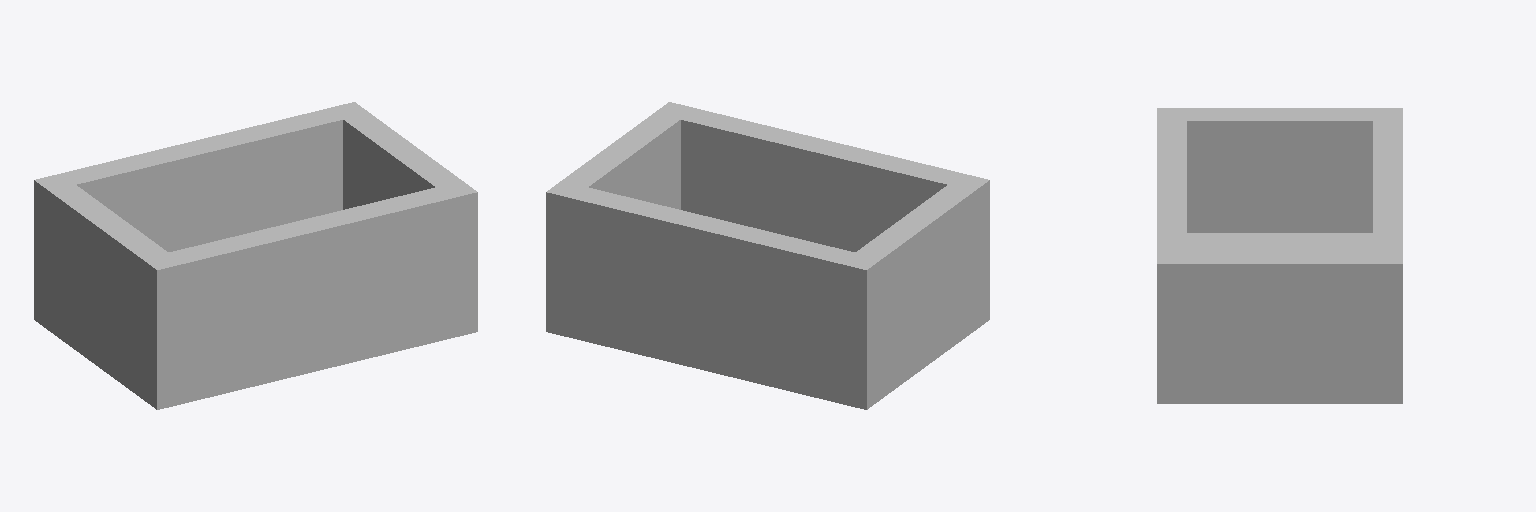
File: Room.obj
The picture shows the model from 3 angles: view 1: azimuth 30°, elevation 25°; view 2: azimuth 150°, elevation 25°; view 3: azimuth 270°, elevation 25°; orthographic projection.
Parts seen in each view (by area): view 1: Cube; view 2: Cube; view 3: Cube.
Part boxes in pixels (left/top/right/bottom): Cube: left=34, top=102, right=477, bottom=409; Cube: left=546, top=102, right=989, bottom=409; Cube: left=1157, top=108, right=1402, bottom=403.
Bounding box in the file's own units: 12 × 5 × 8.